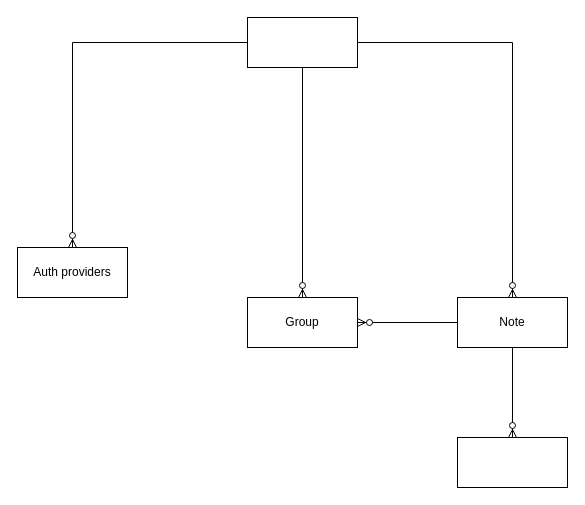
Image size: 585x505. Some labels were removed from this diagram. Each missing label, with the box of its shape:
Reminder: (456, 436, 568, 488)
User: (246, 16, 358, 68)
